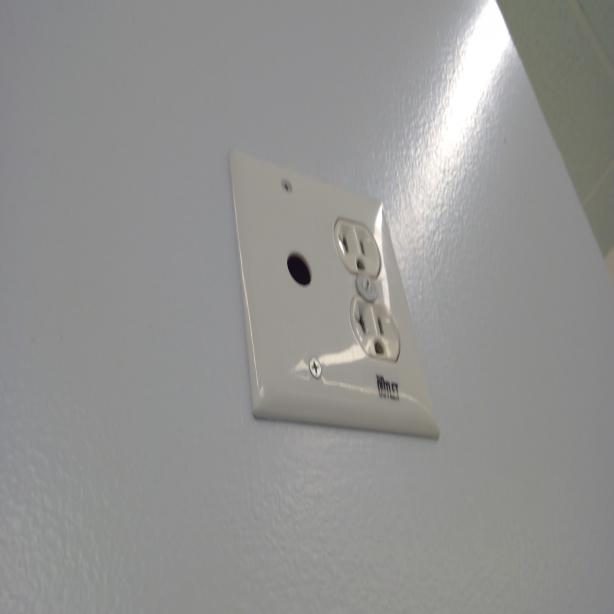typeb: (349, 295, 404, 362), (336, 216, 382, 275)
